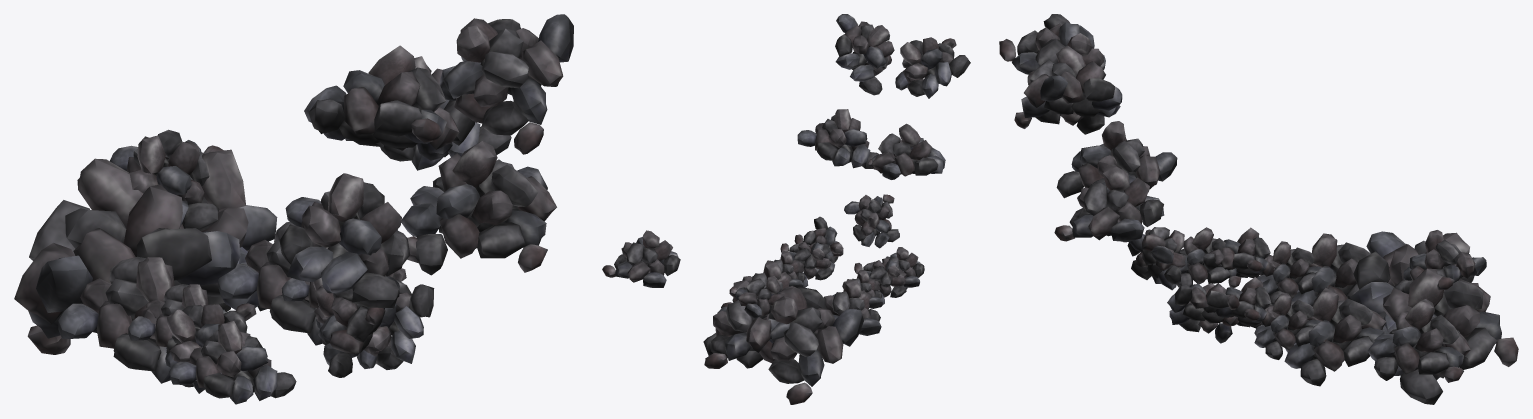
The model's file is 5th stone_piles1.FBX.
3 renders of one model, left to right at view 1: azimuth 30°, elevation 25°; view 2: azimuth 150°, elevation 25°; view 3: azimuth 270°, elevation 25°, orthographic. The views are drawn at different scales.
Parts seen in each view (by area): view 1: stone_pile1; view 2: stone_pile1; view 3: stone_pile1.
Boxes of the visible parts, left/top/right/bottom form: stone_pile1: left=14, top=14, right=573, bottom=404; stone_pile1: left=602, top=14, right=970, bottom=404; stone_pile1: left=999, top=14, right=1518, bottom=404.
Bounding box in the file's own units: 9.64 × 9.8 × 13.11.
